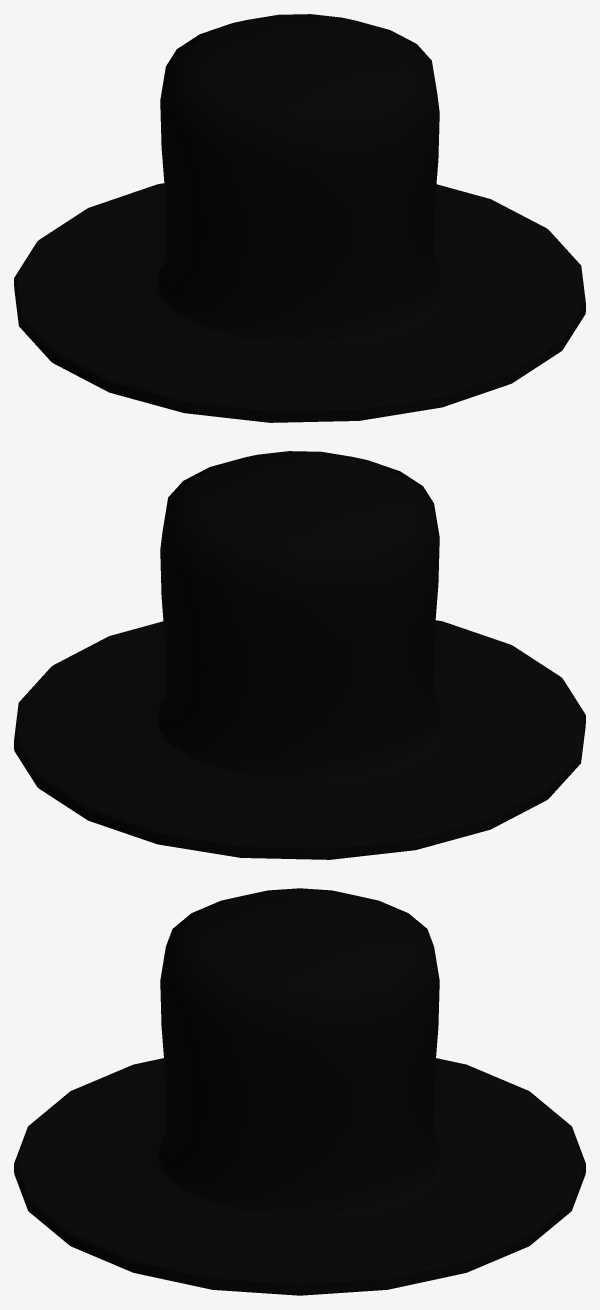
File: hat.fbx
3 views of the same model, one above another, from view 1: azimuth 30°, elevation 25°; view 2: azimuth 150°, elevation 25°; view 3: azimuth 270°, elevation 25° (orthographic).
Parts seen in each view (by area): view 1: pCylinder1; view 2: pCylinder1; view 3: pCylinder1.
Boxes of the visible parts, x1,y1,x2,y2 form: pCylinder1: (14,14,585,422); pCylinder1: (14,451,585,859); pCylinder1: (14,888,585,1295).
Bounding box in the file's own units: 48.31 × 23.76 × 48.31.
